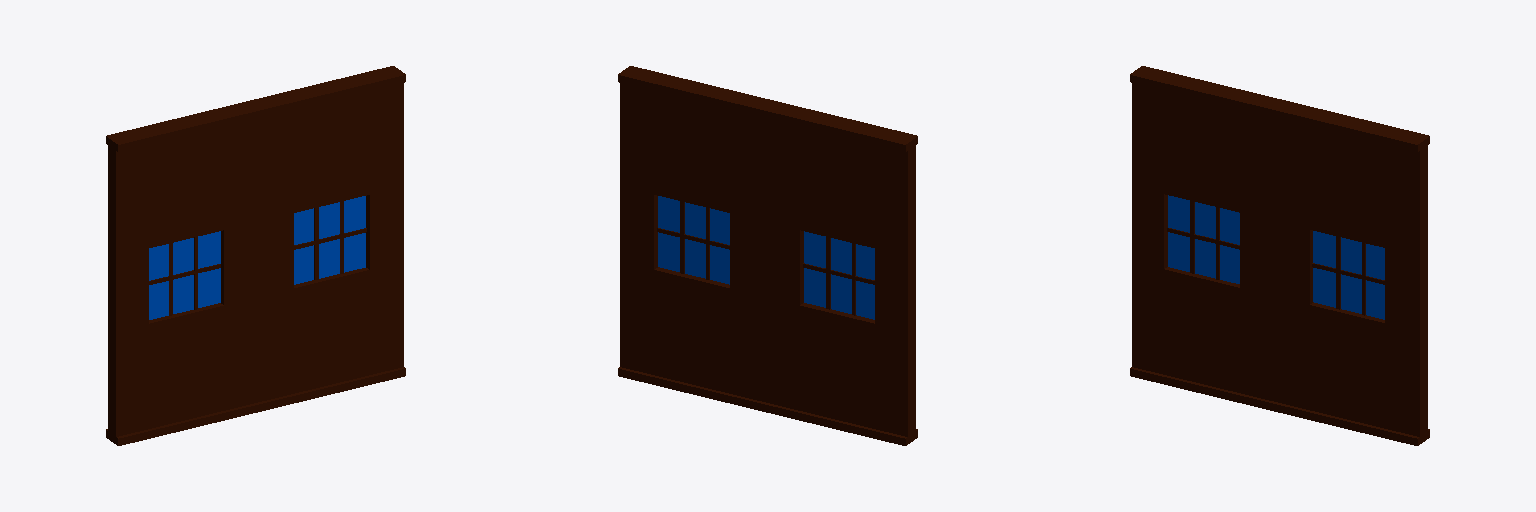
File: 8x8_wall_2_window.obj
The picture shows the model from 3 angles: view 1: azimuth 30°, elevation 25°; view 2: azimuth 150°, elevation 25°; view 3: azimuth 330°, elevation 25°; orthographic projection.
Parts seen in each view (by area): view 1: wall; view 2: wall; view 3: wall.
Boxes of the visible parts, box(x1,y1,x2,y2) form: wall: box(106, 66, 405, 445); wall: box(618, 66, 917, 445); wall: box(1130, 66, 1429, 445).
Size of the model in its own units: 8 by 8 by 0.607.